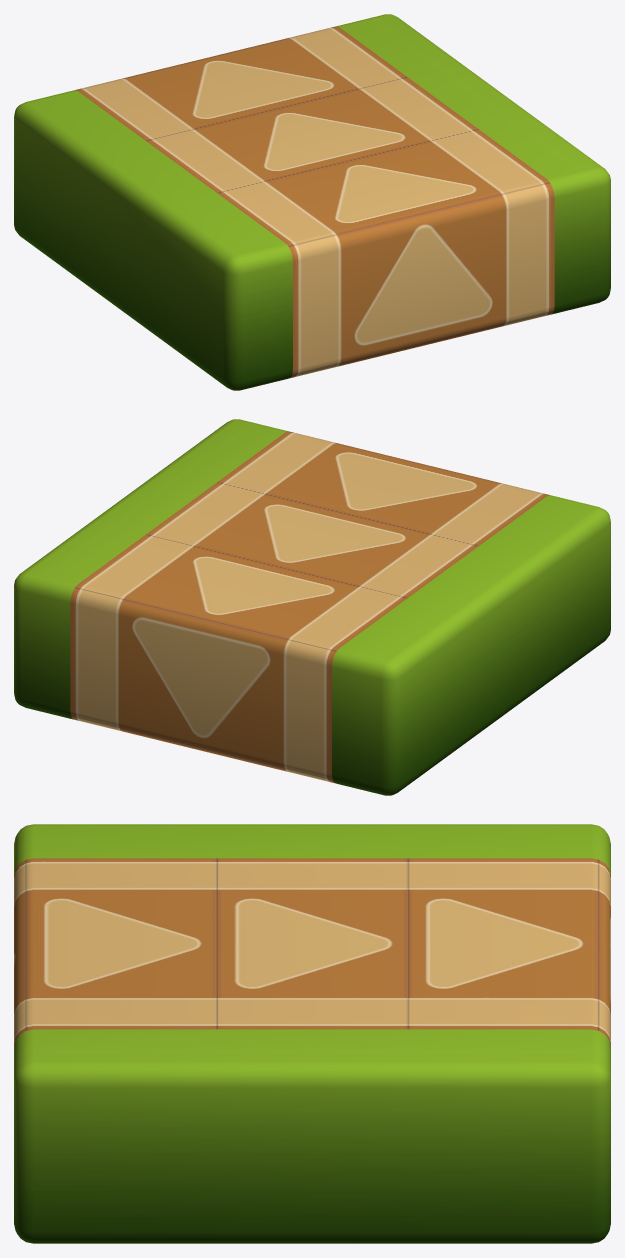
Rendered from PLF0110137.fbx.
3 views of the same model, one above another, from view 1: azimuth 30°, elevation 25°; view 2: azimuth 150°, elevation 25°; view 3: azimuth 270°, elevation 25° (orthographic). The views are drawn at different scales.
Visible parts, largest first — view 1: smPLF0110137; view 2: smPLF0110137; view 3: smPLF0110137.
Part boxes in pixels (x1,y1,x2,y2): smPLF0110137: [14, 14, 610, 390]; smPLF0110137: [14, 419, 610, 795]; smPLF0110137: [14, 824, 610, 1243].
Bounding box in the file's own units: 442 × 147 × 442.
1 material, 1 textured.
